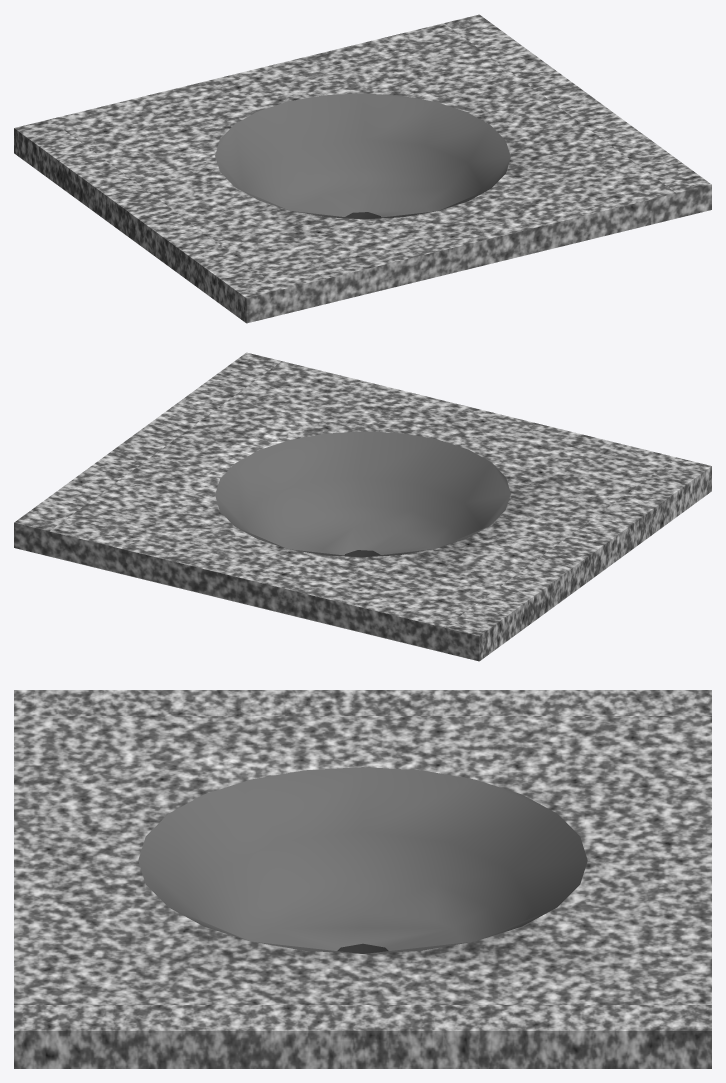
Rendered from muslukkdolpa.fbx.
The picture shows the model from 3 angles, top to bottom: view 1: azimuth 30°, elevation 25°; view 2: azimuth 150°, elevation 25°; view 3: azimuth 270°, elevation 25°; orthographic projection. The views are drawn at different scales.
Visible parts, largest first — view 1: Cube; view 2: Cube; view 3: Cube.
Part boxes in pixels (x1,y1,x2,y2): Cube: (14, 14, 711, 323); Cube: (14, 352, 711, 661); Cube: (14, 690, 711, 1068).
Size of the model in its own units: 236 by 32.69 by 204.
1 material, 1 textured.
